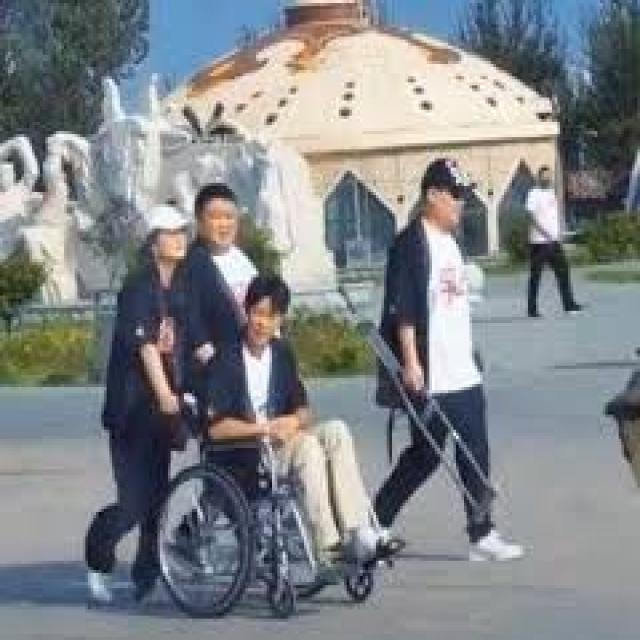wheelchairs: (139, 357, 400, 612)
